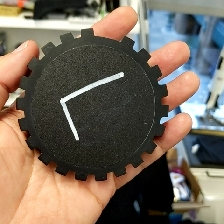gear: (14, 26, 170, 183)
missing: (80, 27, 135, 51)
